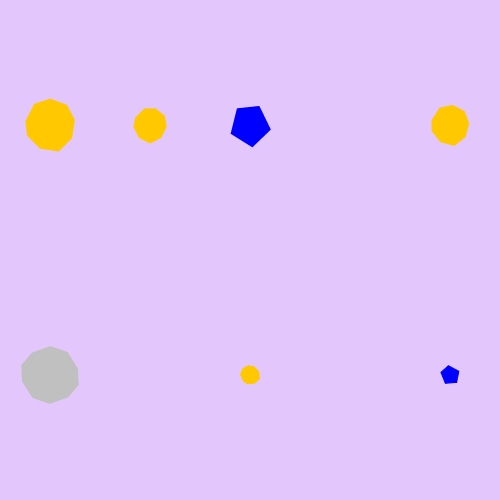decagon: (17, 345, 84, 406)
nonagon: (20, 97, 80, 154), (426, 102, 474, 148), (129, 105, 172, 146), (236, 361, 265, 389)
pentagon: (226, 101, 274, 149), (436, 361, 464, 389)
